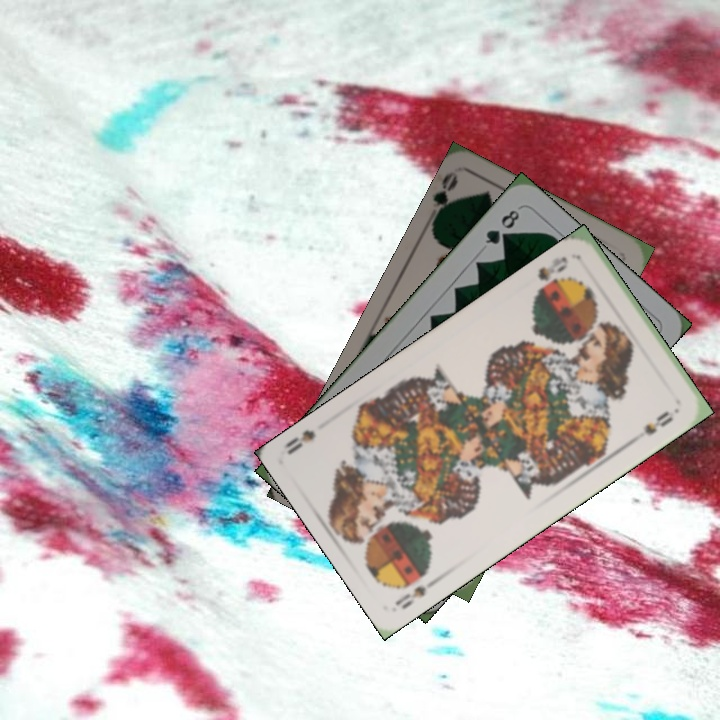G8: (481, 205, 523, 248)
GO: (428, 168, 461, 226)
SO: (390, 572, 444, 612), (534, 252, 571, 284)
